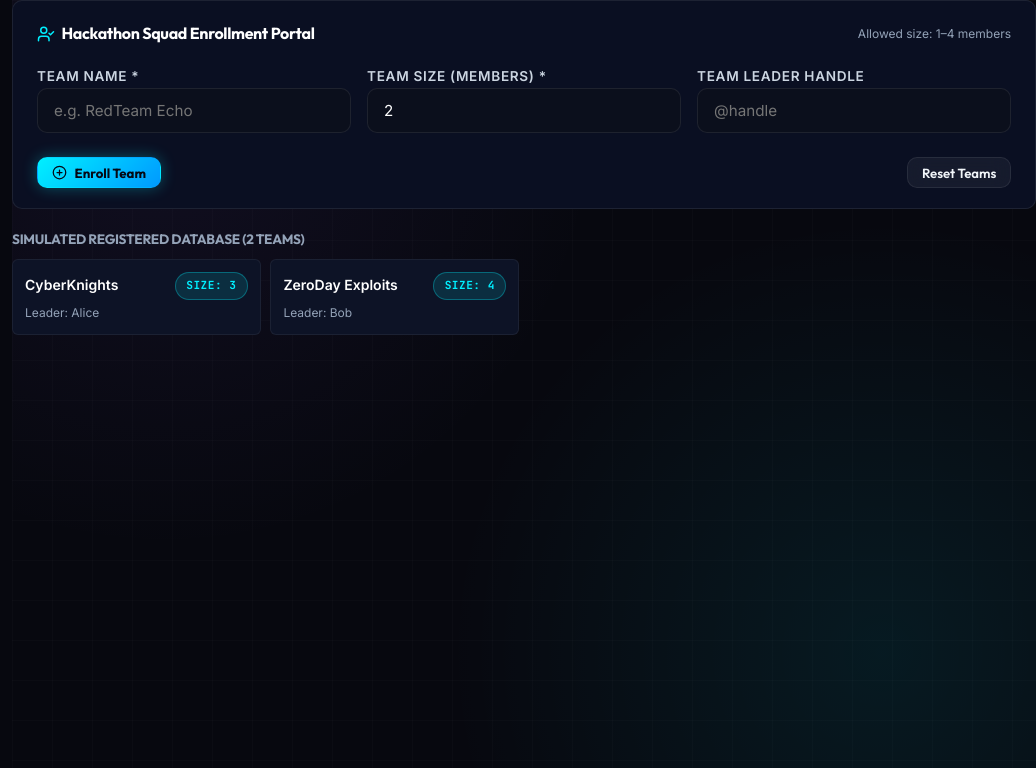
Test case: BUG ARENA Frontend Integration & Challenge Tests › Challenge 4: Validation Gap simulation › accepts negative team size due to truthy boundary check bypass
Step 1. Type "ShadowHacks" into the field with placeholder "e.g. RedTeam Echo" → (194, 111), box [37,88,351,133]
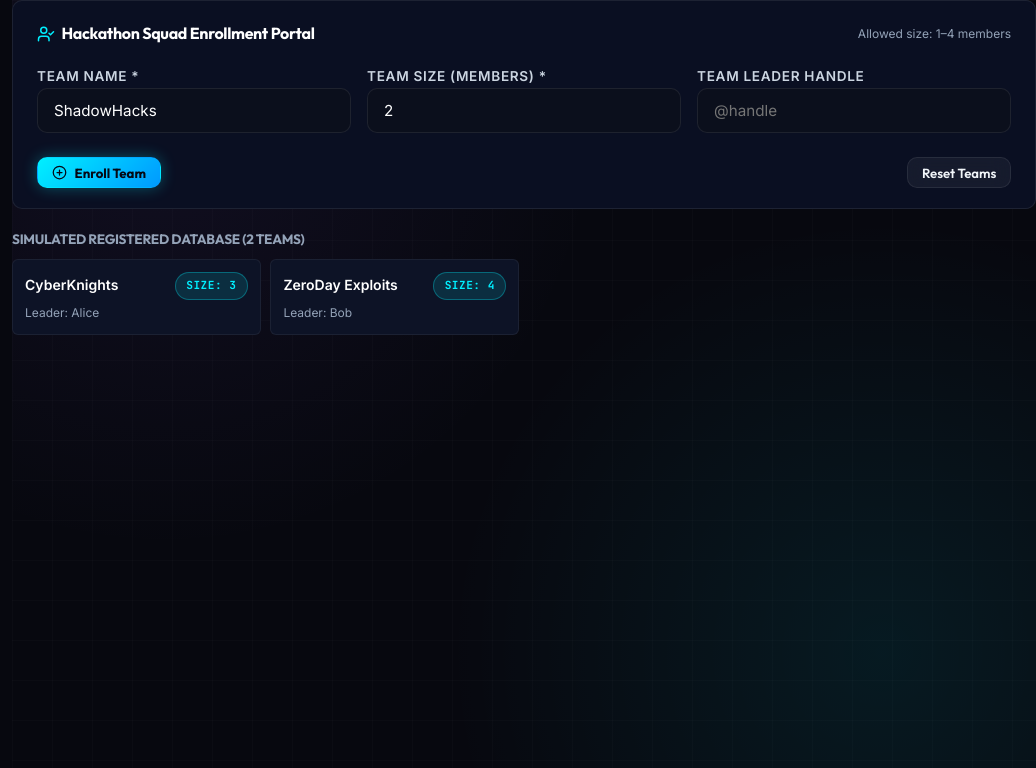
Step 2. Replace the text in the field with placeholder "e.g. -2, 0, 3e2, or 2" below "Team Size (Members) *" with "-3" → (524, 111), box [367,88,681,133]
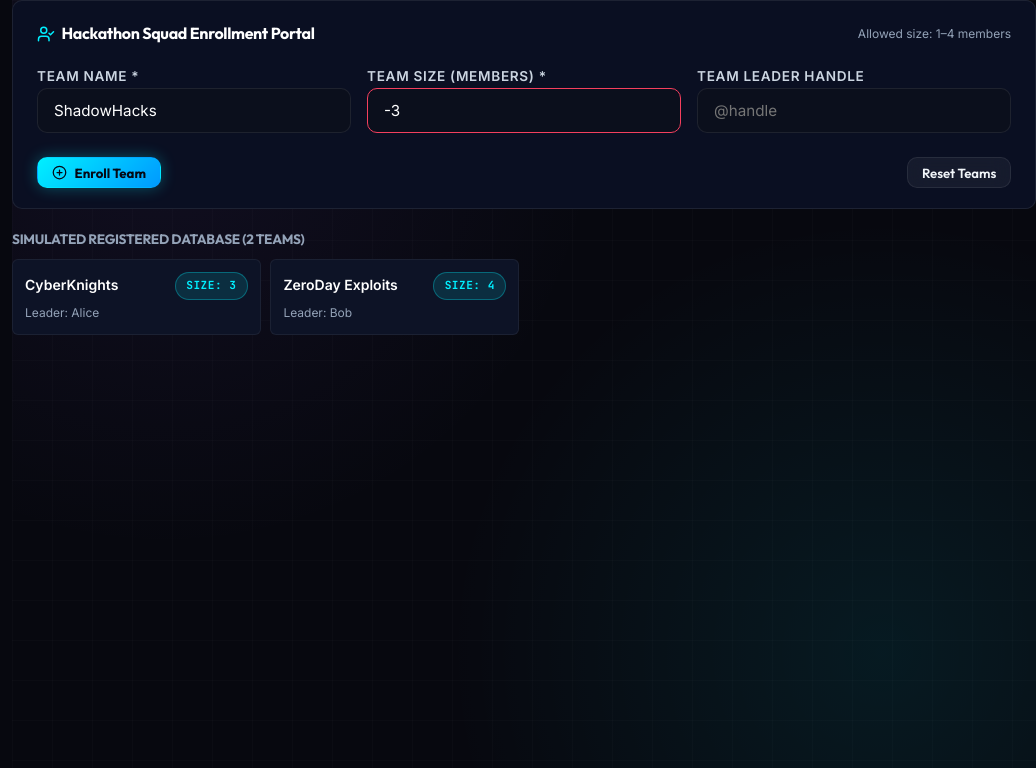
Step 3. Click the button "Enroll Team" → (99, 173), box [37,157,160,188]
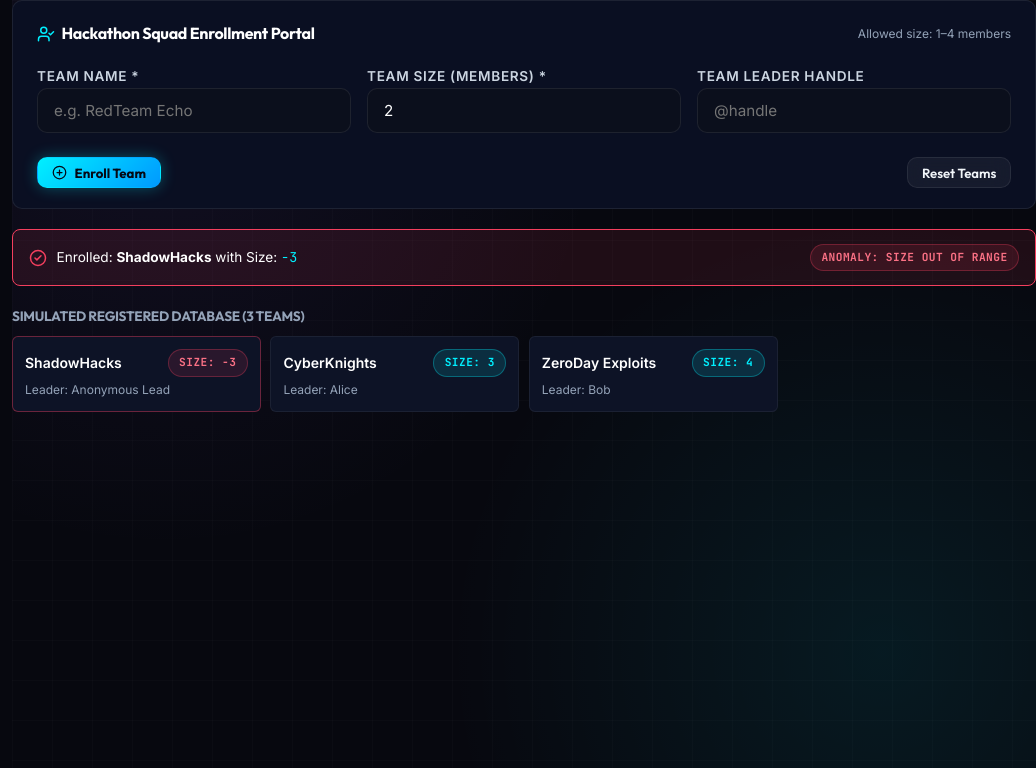
Expected: the text "Anomaly: Size Out of Range" is shown, [810,244,1019,272]
